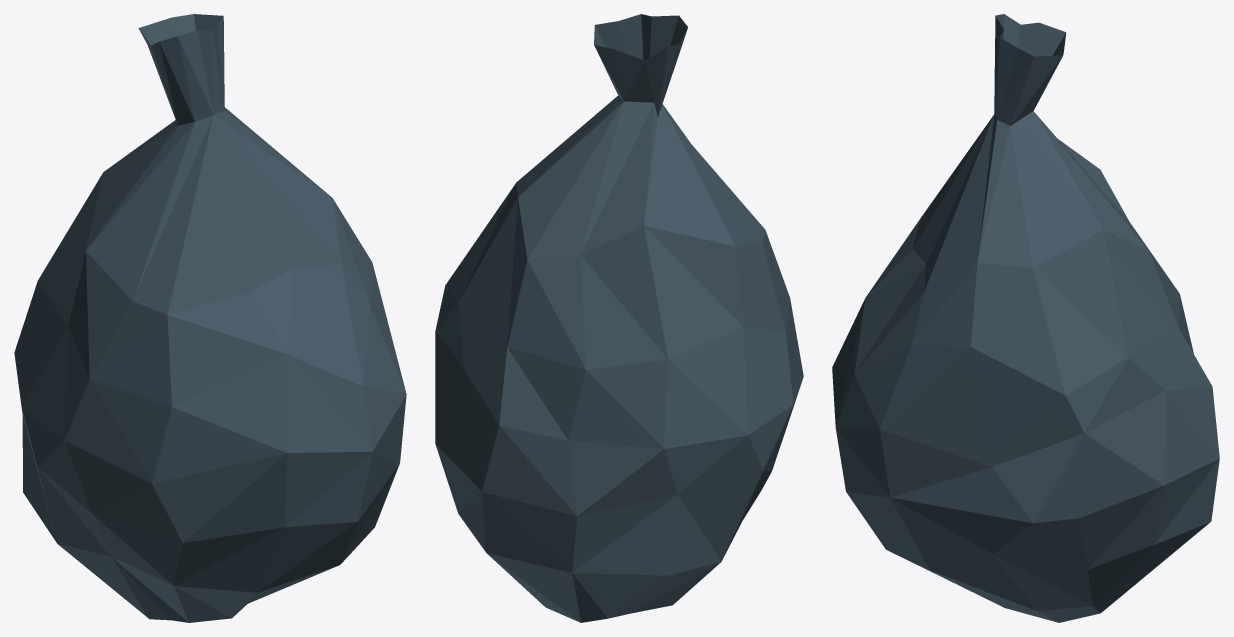
File: trash-bag-grey.glb
3 views of the same model, side by side, from view 1: azimuth 30°, elevation 25°; view 2: azimuth 150°, elevation 25°; view 3: azimuth 270°, elevation 25° (orthographic). The views are drawn at different scales.
Parts seen in each view (by area): view 1: group104413426; view 2: group104413426; view 3: group104413426.
Boxes of the visible parts, x1,y1,x2,y2 form: group104413426: (14, 14, 406, 622); group104413426: (435, 14, 803, 622); group104413426: (832, 14, 1219, 622).
Size of the model in its own units: 0.2365 by 0.4066 by 0.2464.
